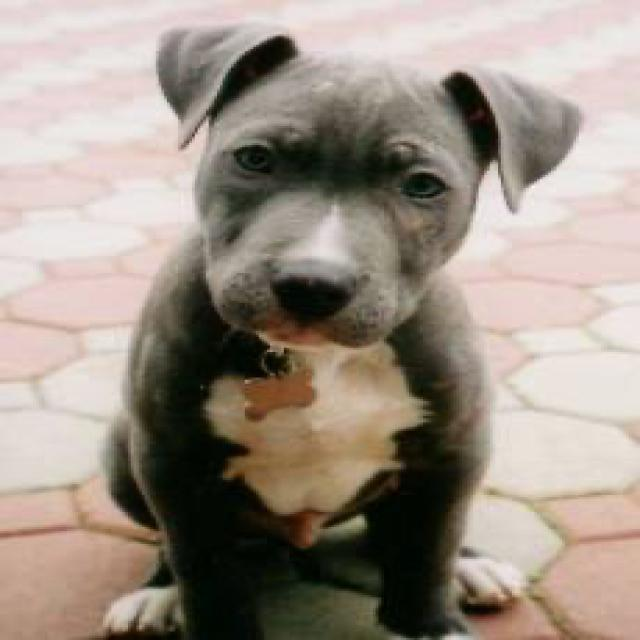dog: (153, 19, 576, 348)
